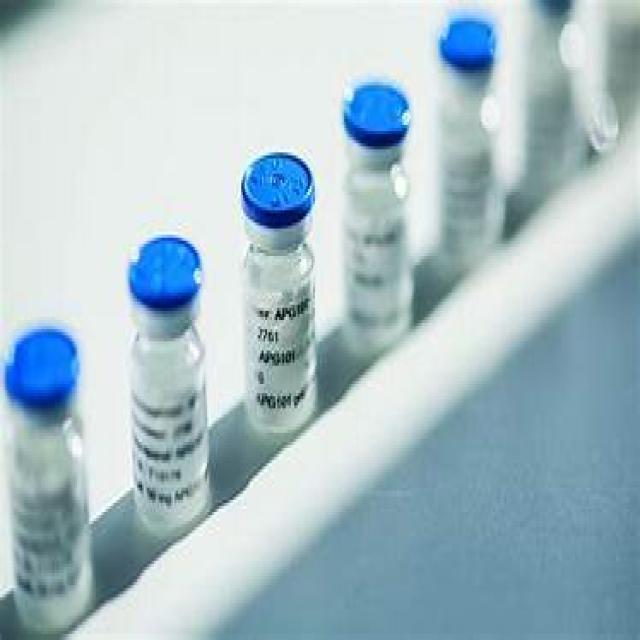vial: (12, 334, 84, 412), (240, 159, 322, 217), (131, 241, 201, 303), (344, 86, 412, 142), (438, 12, 498, 58), (526, 0, 568, 18)
